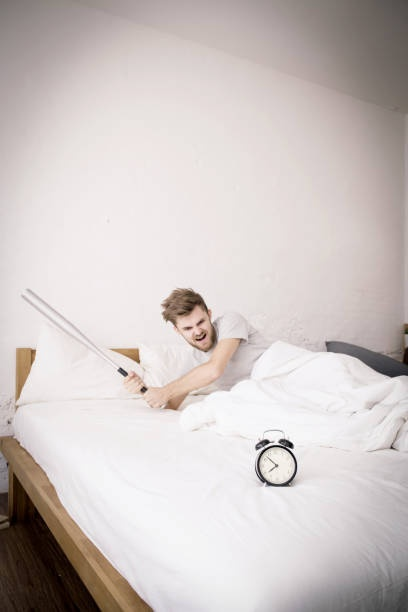bita: (24, 289, 161, 399)
